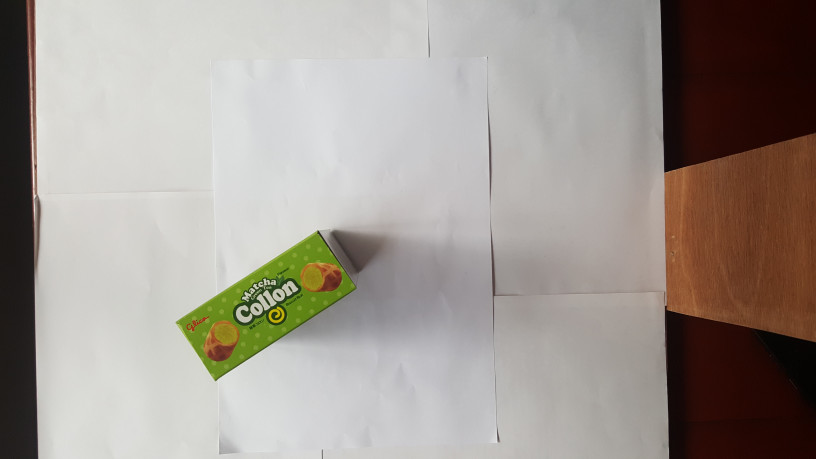collon-matcha: (176, 228, 358, 384)
